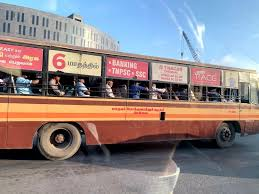bus: (1, 36, 259, 161)
